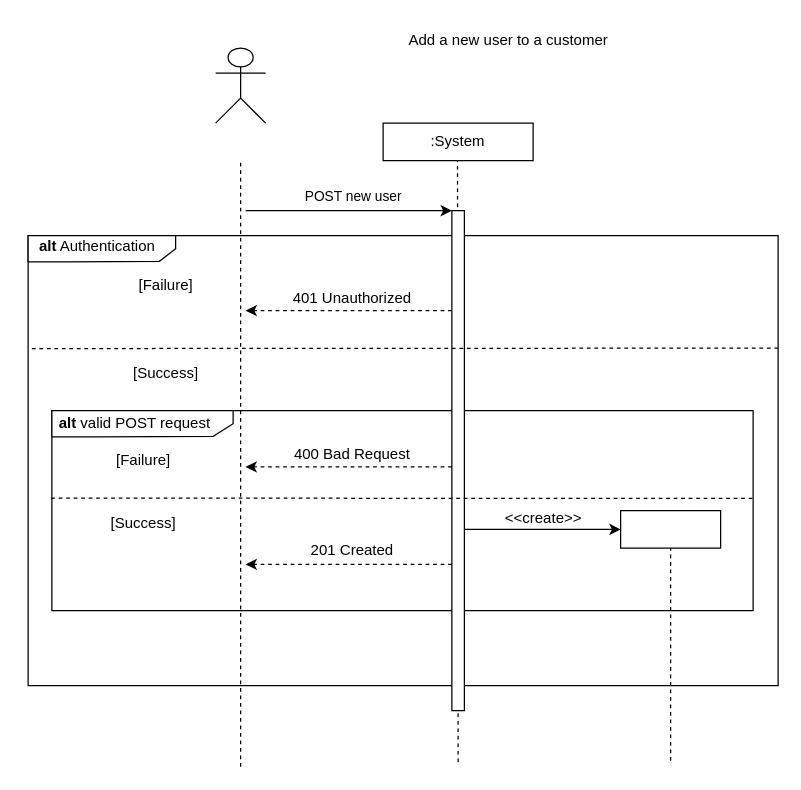
Image size: 801x790. Some labels were removed from this diagram. The shapes that lost their labels are listed below. From the top down, each one's box as (x1, y1, x2, y2) in pixels, then its label:
(214, 47, 266, 123): Visitor
(619, 509, 721, 548): :User
